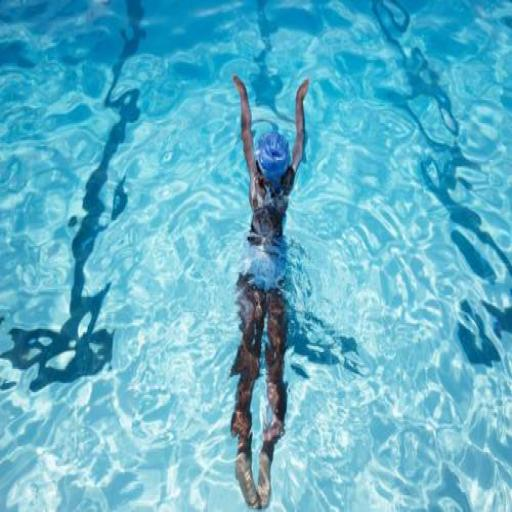swimming: (226, 71, 312, 510)
